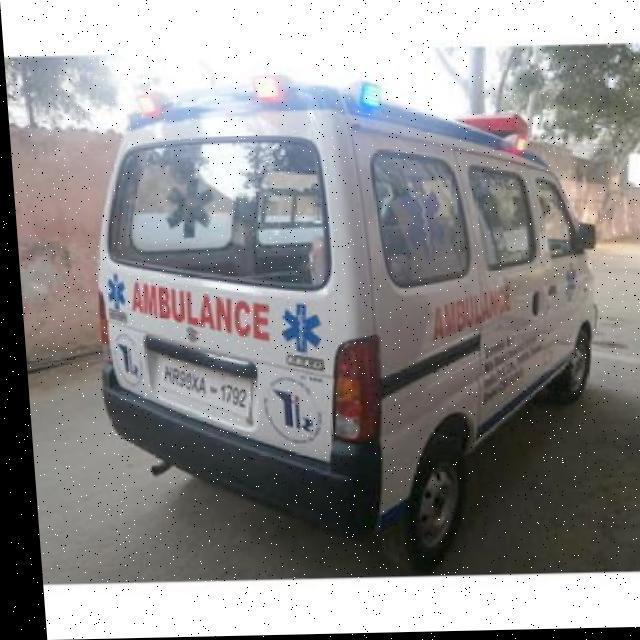Ambulance: (15, 243, 640, 583)
